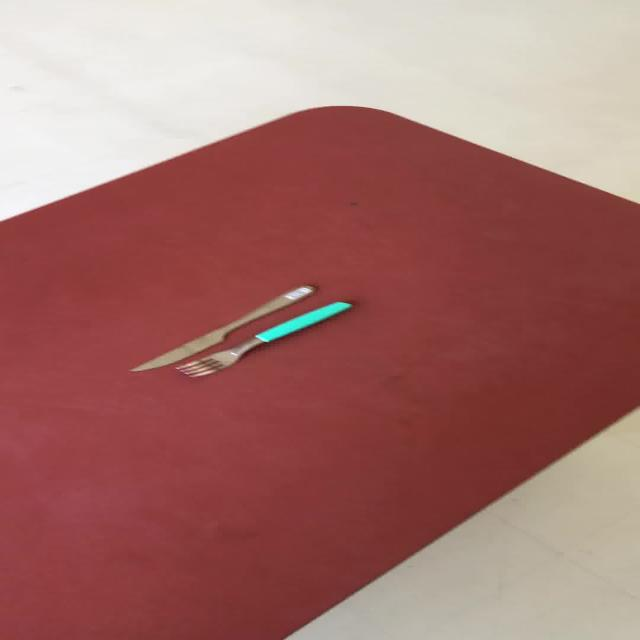fork: (173, 300, 352, 378)
knife fork: (127, 283, 316, 372)
